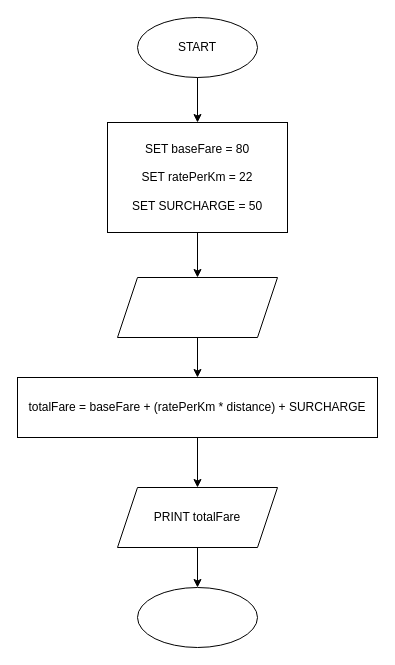
Image size: 395x665. Some labels were removed from this diagram. The shapes that lost their labels are listed below. From the top down, each one's centre as x and y in pixels, then its label:
the point at 197,307: INPUT distance
the point at 197,617: END
